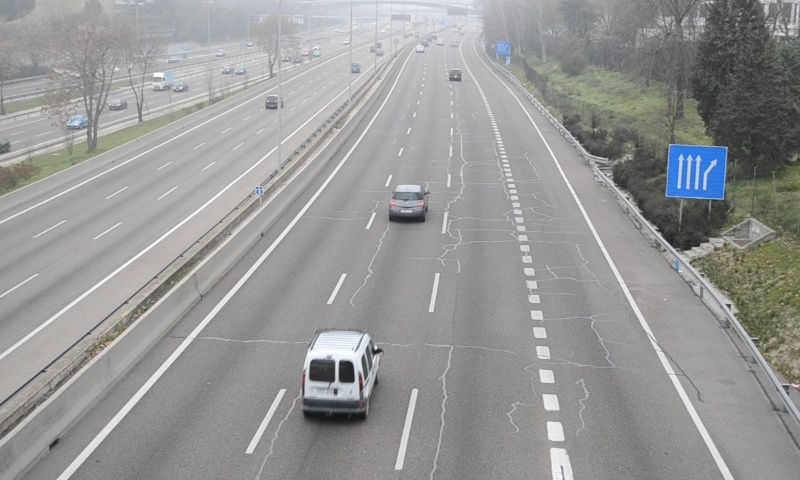car: (388, 184, 428, 219)
van: (300, 331, 381, 415)
